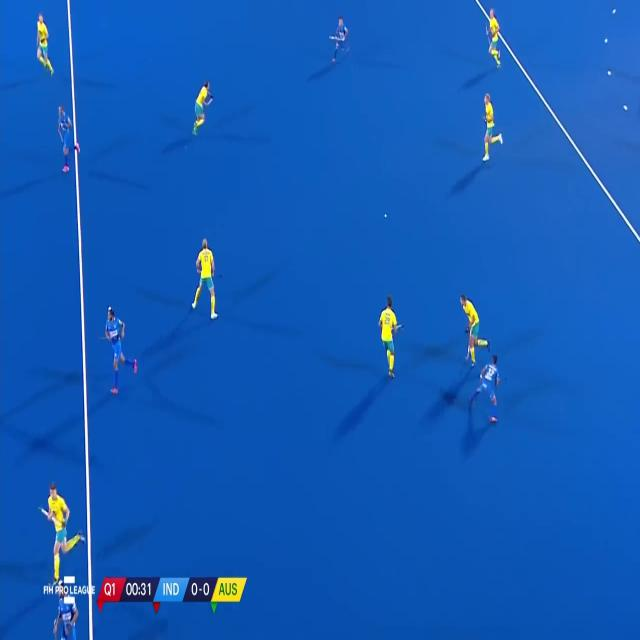ball: (382, 212, 388, 220)
